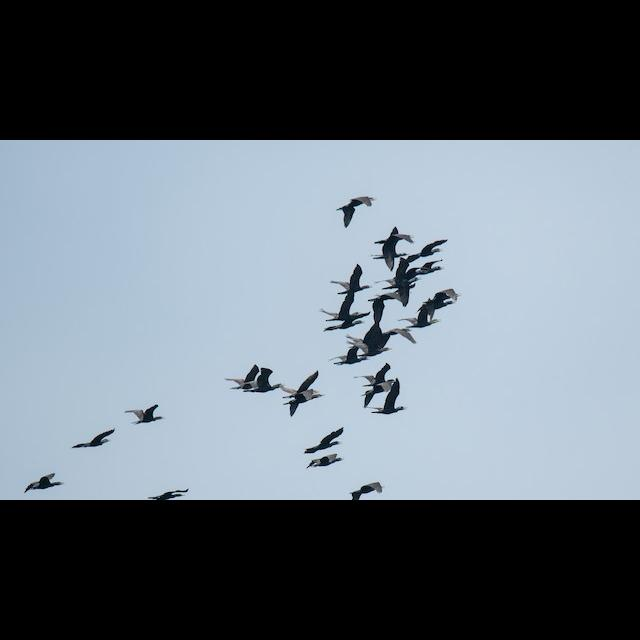cormorant: (328, 264, 372, 296), (336, 194, 376, 226), (71, 427, 117, 451), (22, 469, 64, 495), (126, 404, 168, 426)
